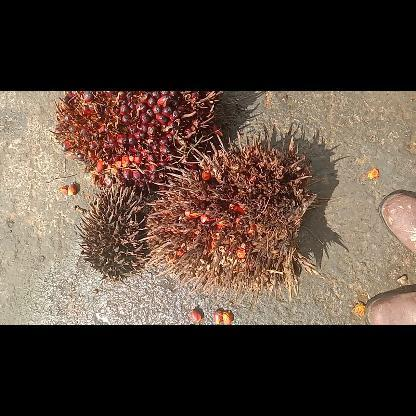Janjang kosong: (76, 182, 154, 282)
TBS masak: (48, 91, 218, 189)
Terlalu masak: (139, 130, 318, 298)
